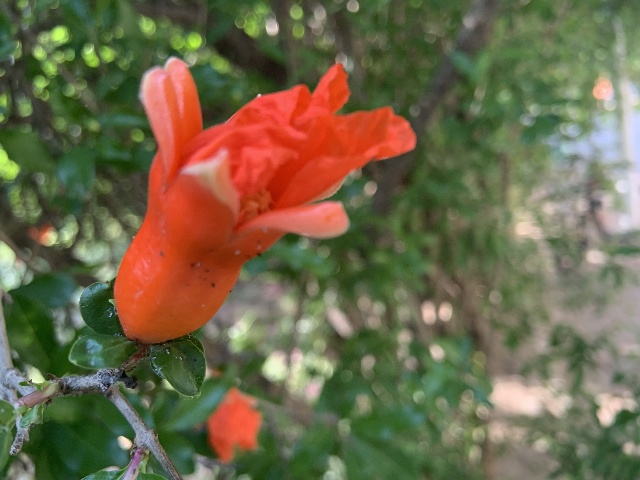flower: (119, 57, 416, 348), (205, 387, 262, 463)
